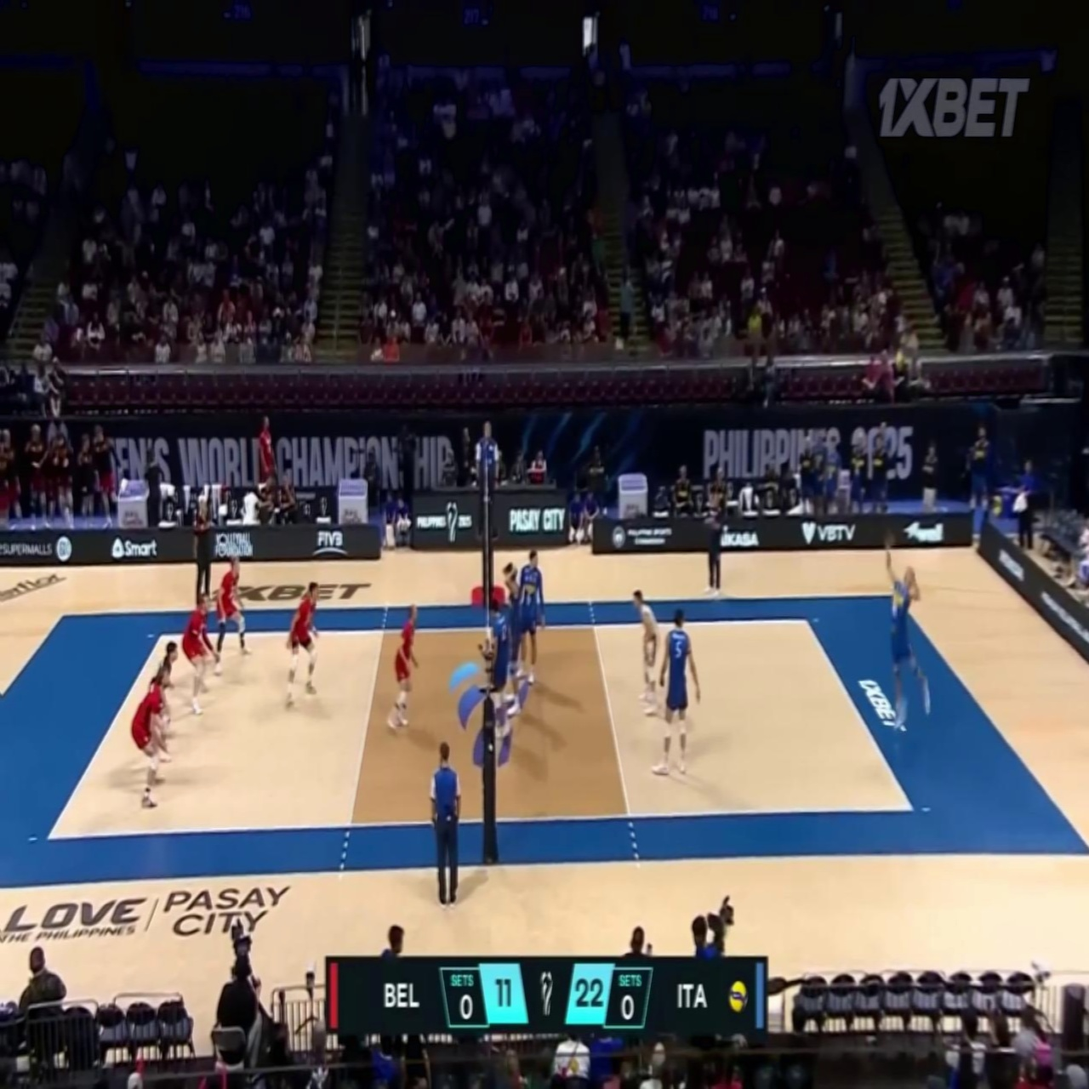ball: (894, 351, 902, 368)
